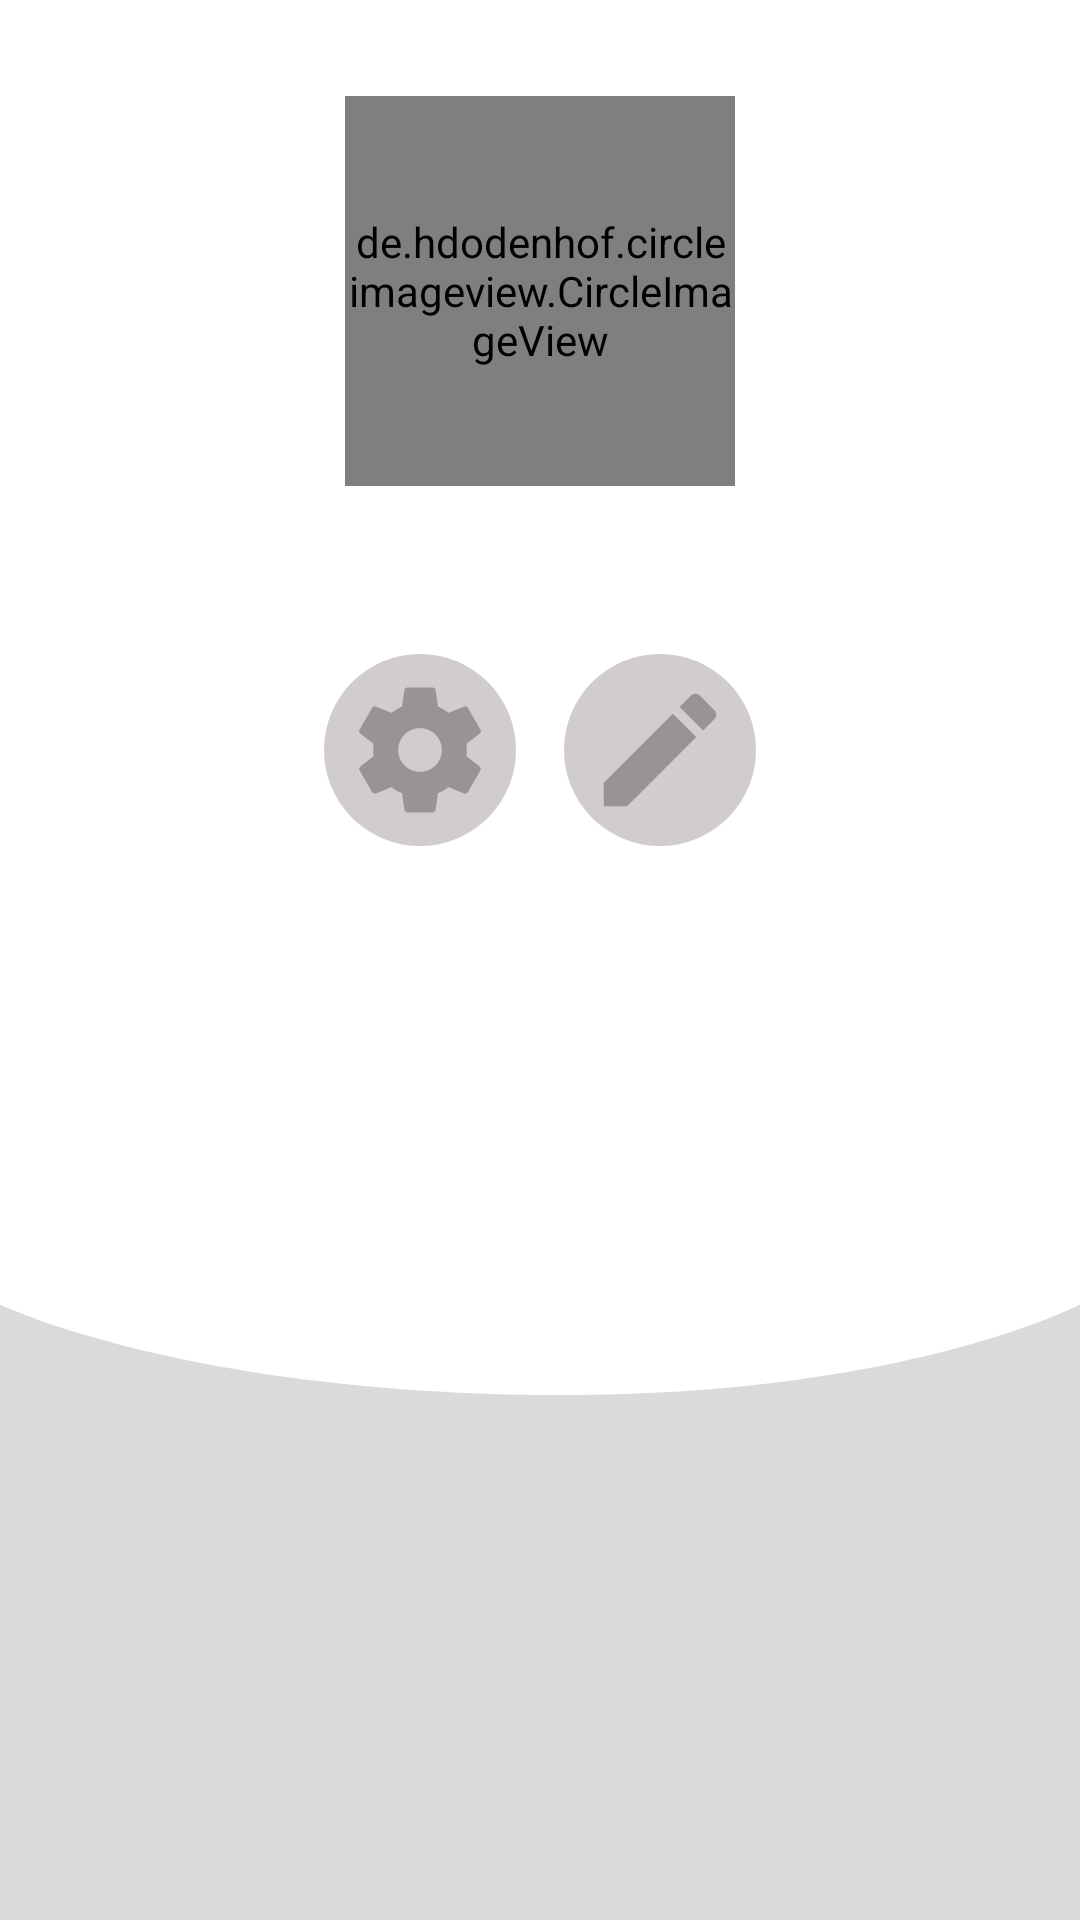

Named icons in this screenshot (1080×1920) and their bounding boxes, box=[x1, y1, x2, y2]:
edit: box=[564, 654, 756, 846]
settings: box=[324, 654, 516, 846]
